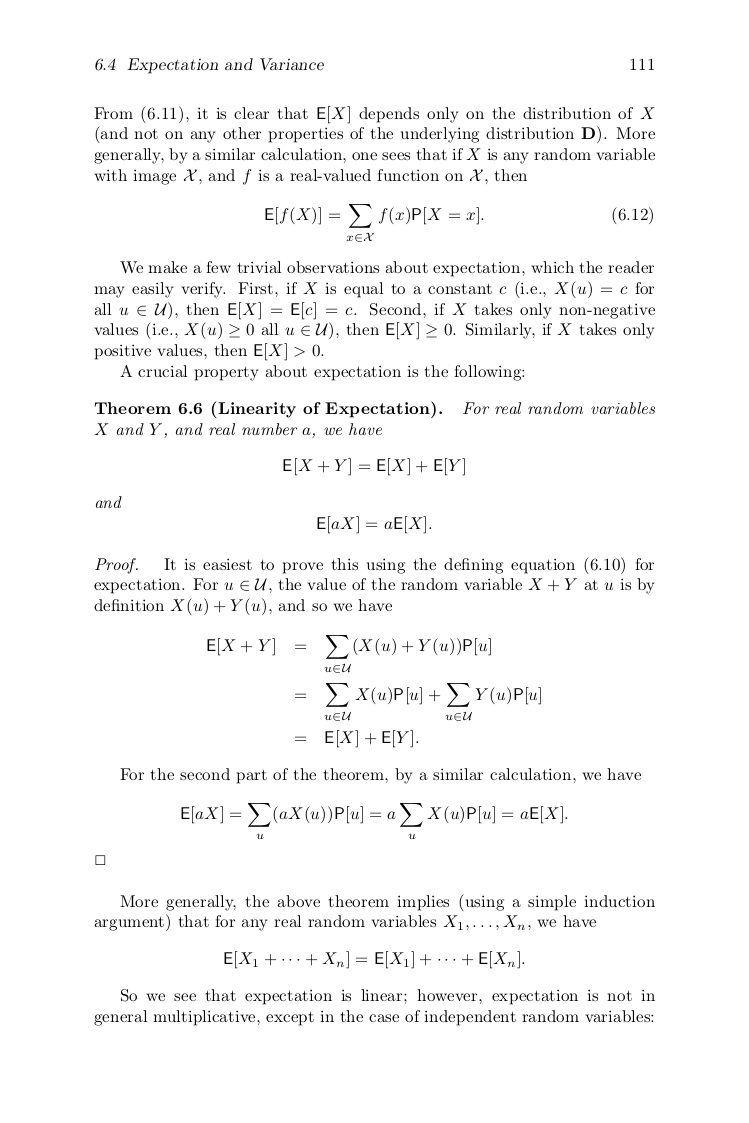formula: (265, 204, 652, 241), (181, 803, 567, 839), (207, 635, 490, 672), (295, 683, 540, 720), (224, 950, 524, 969), (295, 729, 418, 748)
